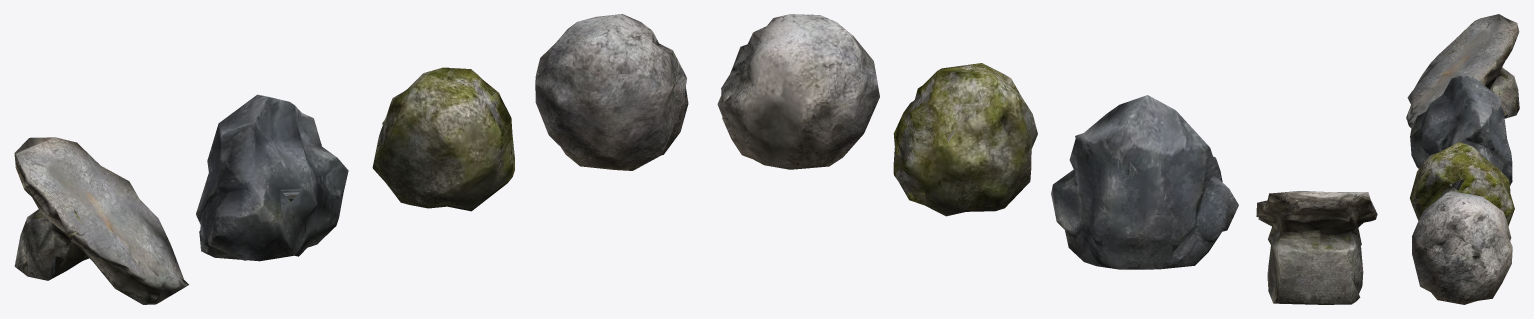
The model's file is rocks_boulder.glb.
3 views of the same model, side by side, from view 1: azimuth 30°, elevation 25°; view 2: azimuth 150°, elevation 25°; view 3: azimuth 270°, elevation 25° (orthographic). The views are drawn at different scales.
Visible parts, largest first — view 1: slate, granite, slab, mossy; view 2: slate, granite, mossy, slab; view 3: granite, slate, slab, mossy.
Part boxes in pixels (box(x1,y1,x2,y2)): slate: box(196, 94, 348, 261); granite: box(535, 14, 688, 170); slab: box(14, 137, 188, 304); mossy: box(372, 67, 514, 211); slate: box(1051, 95, 1238, 269); granite: box(717, 14, 879, 169); mossy: box(893, 63, 1037, 216); slab: box(1256, 191, 1377, 304); granite: box(1412, 190, 1512, 304); slate: box(1410, 75, 1512, 185); slab: box(1406, 14, 1519, 127); mossy: box(1410, 142, 1514, 226).
Bounding box in the file's own units: 1.1 × 0.2451 × 0.2425.
Materials: 1 (1 with a texture image).
